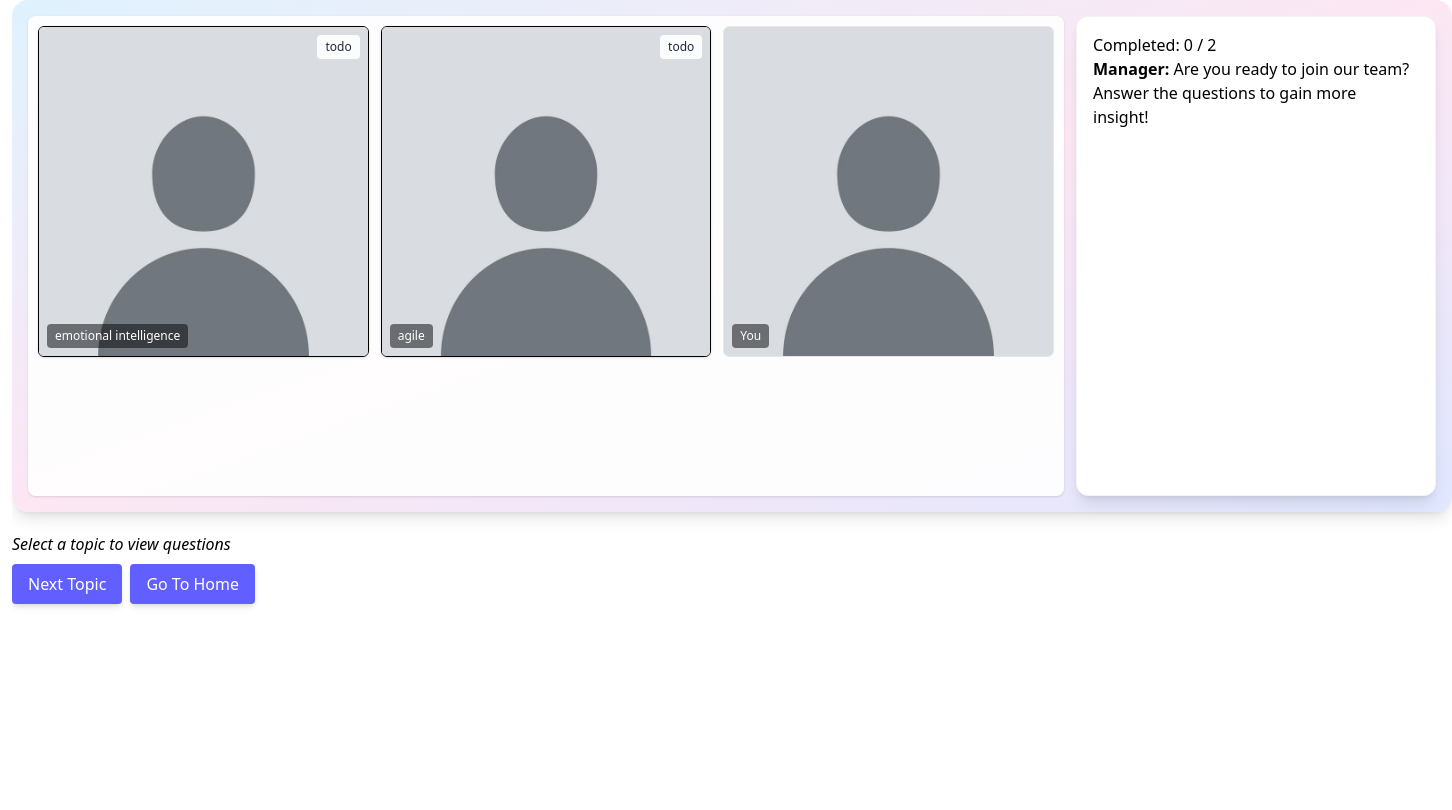
it: QuizTopicSelector › should show done button when all completed
Click the button with test id "topic-card-emotional_intelligence" at (203, 191), box [38, 26, 369, 357]
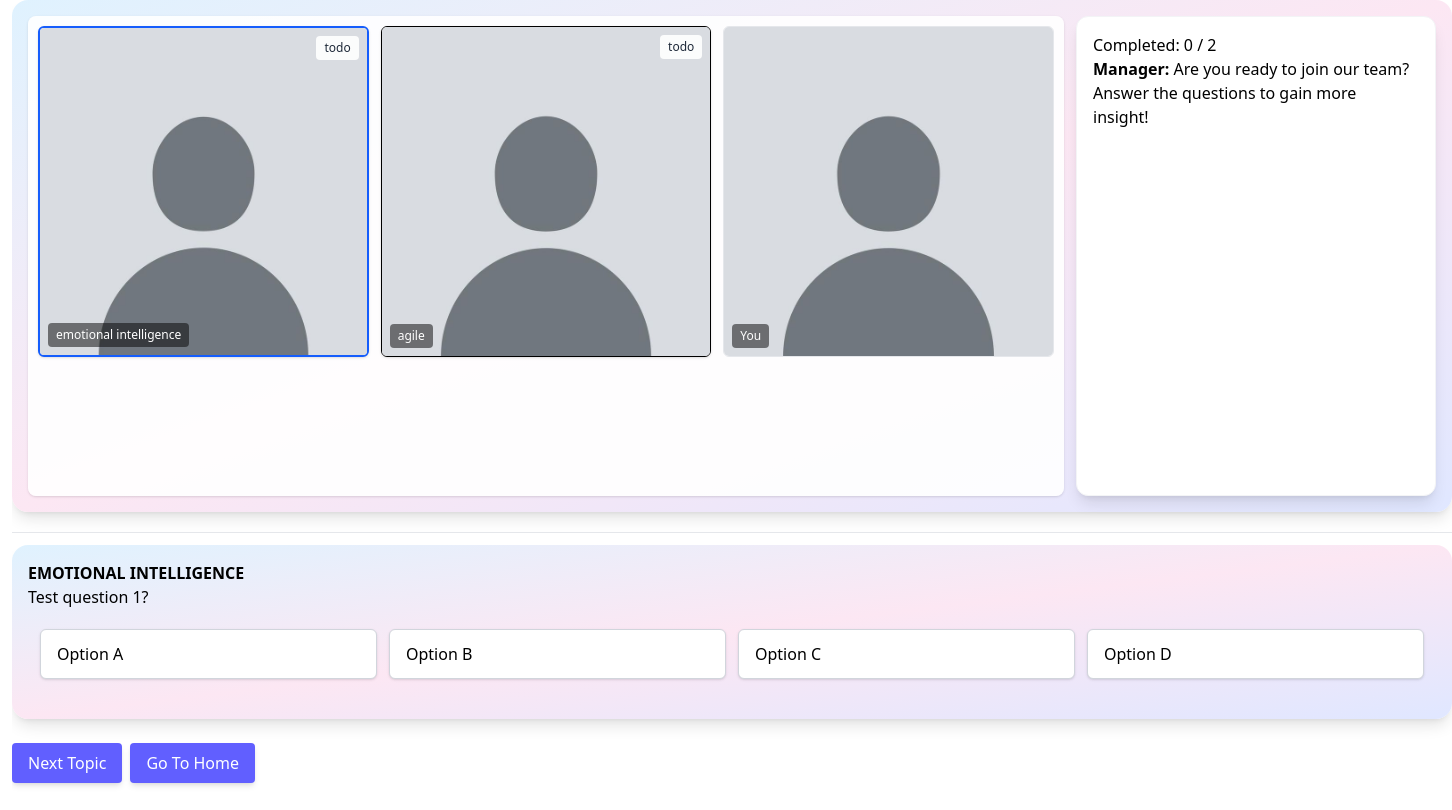
Expected: the button with test id "answer-card-0" is shown
Click the button with test id "answer-card-0" at (90, 654), box [40, 629, 377, 679]
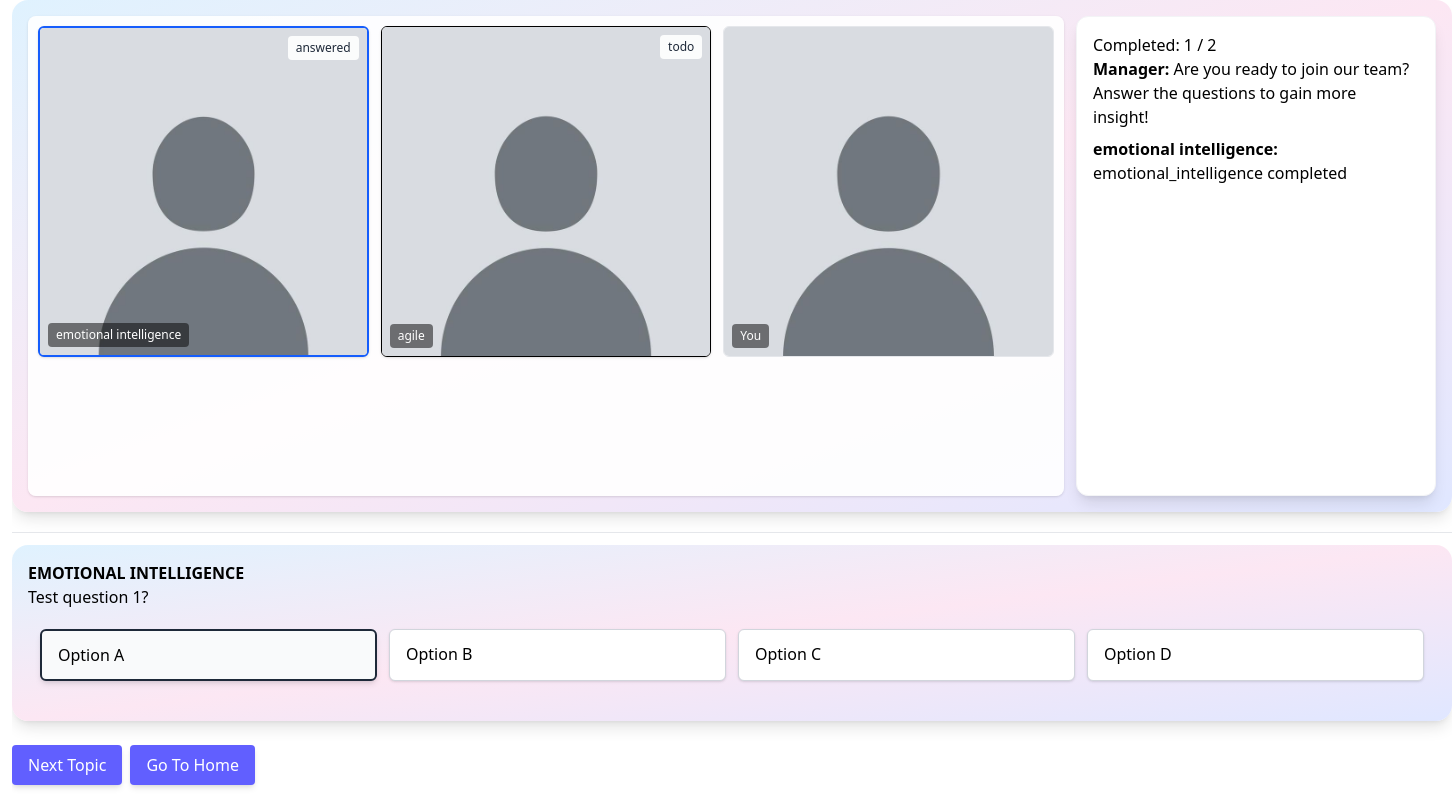
Expected: the heading "Completed: 1 / 2" is shown, [1093, 34, 1216, 56]
Click the button with test id "topic-card-emotional_intelligence" at (203, 191), box [38, 26, 369, 357]
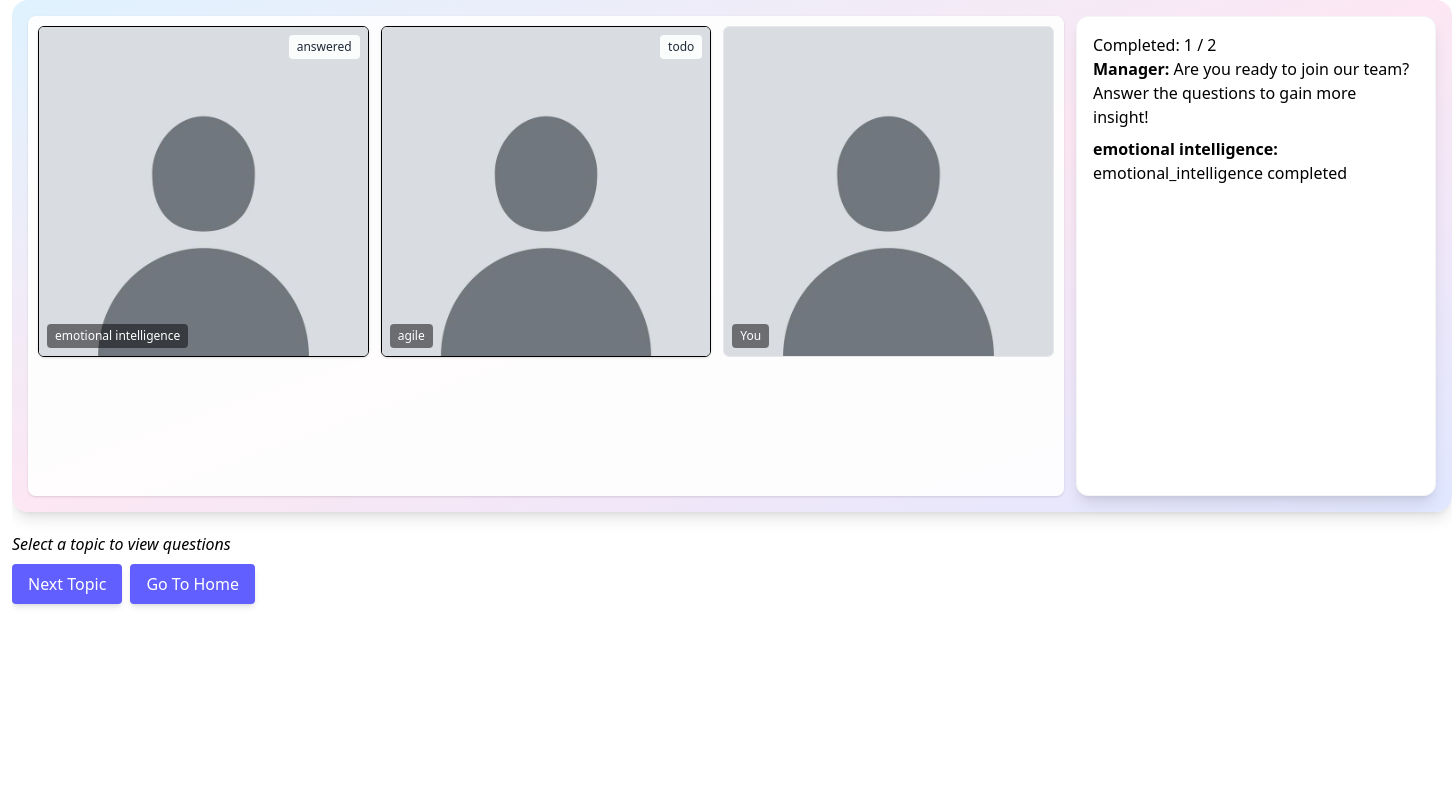
Click the button with test id "topic-card-agile" at (546, 191), box [381, 26, 711, 357]
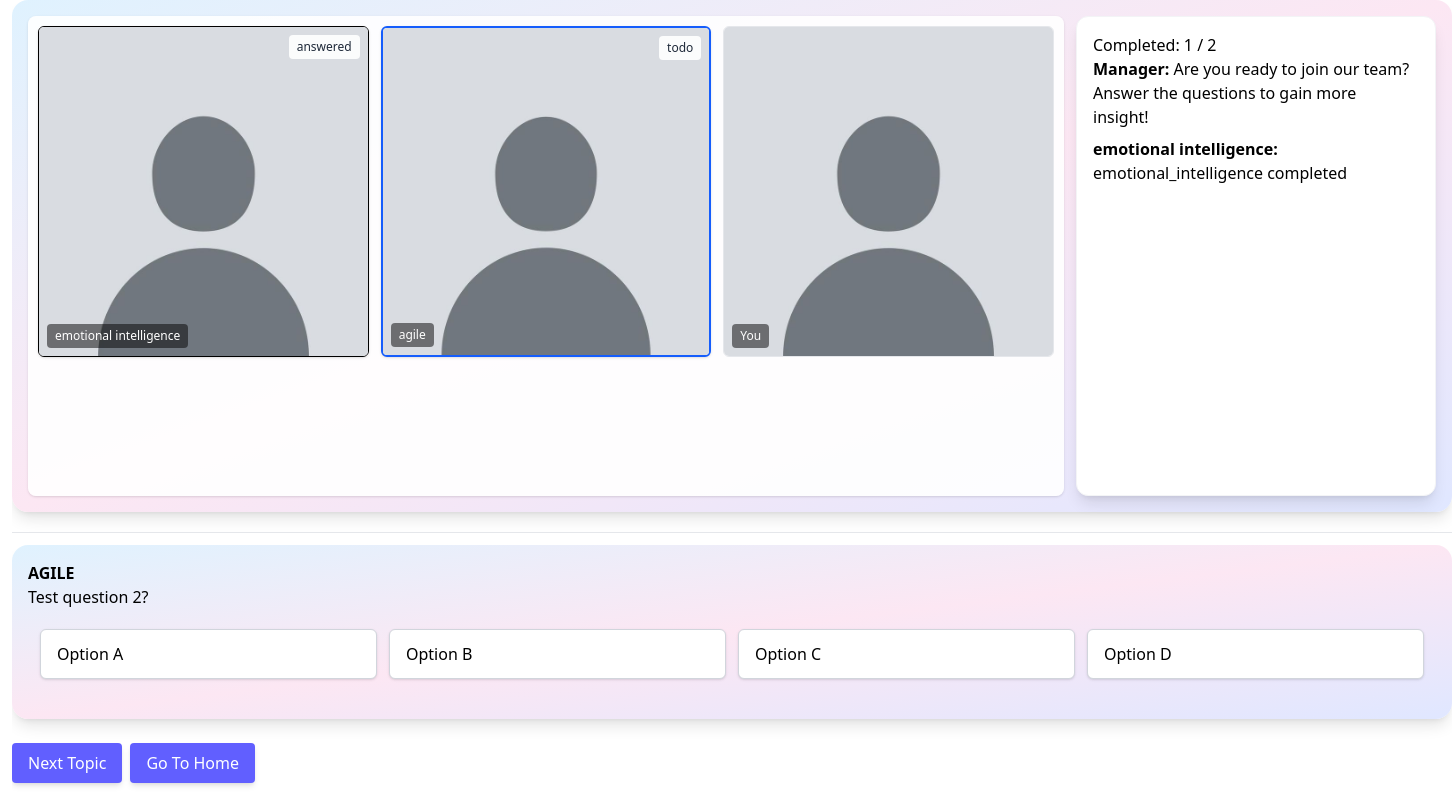
Expected: the button with test id "answer-card-1" is shown
Click the button with test id "answer-card-1" at (439, 654), box [389, 629, 726, 679]
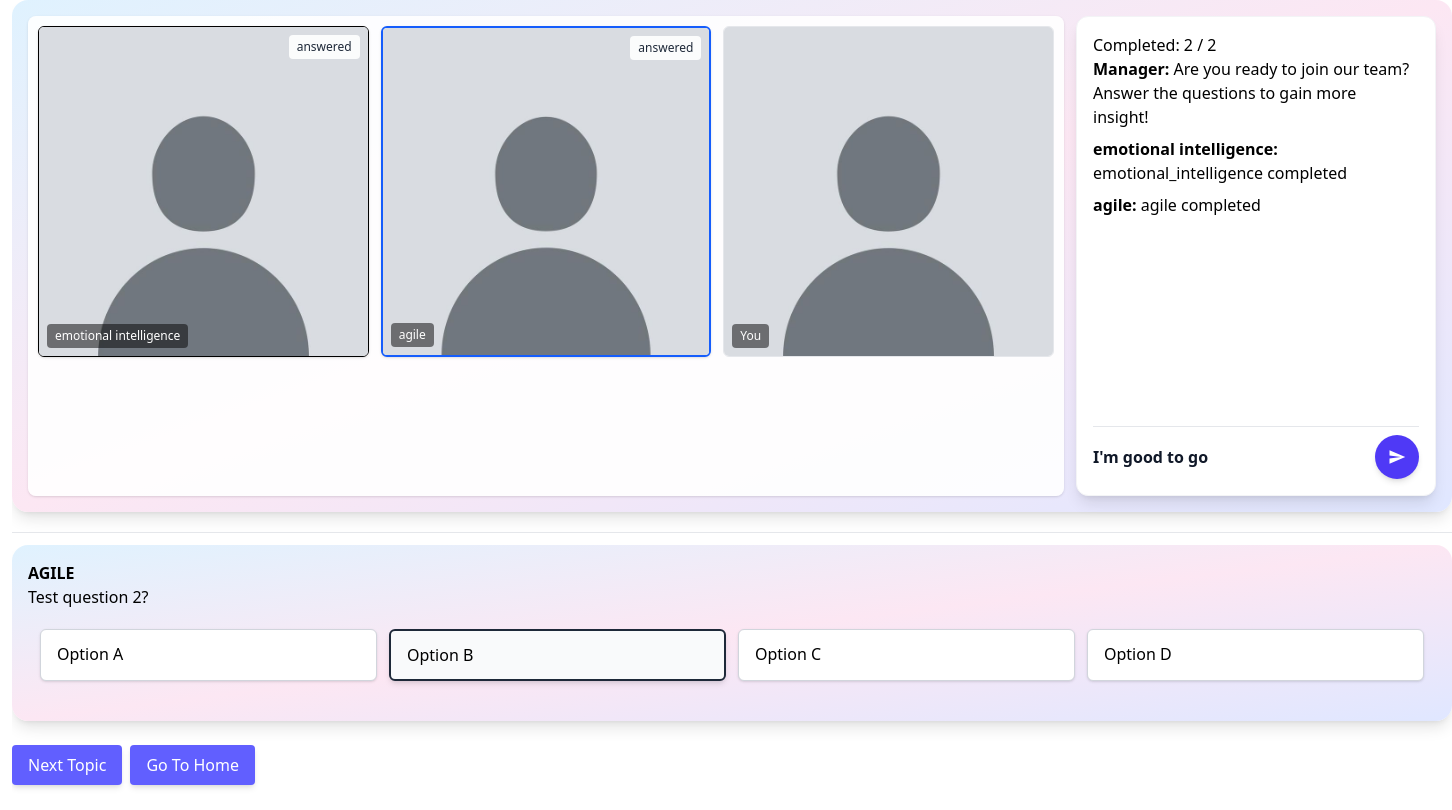
Expected: the text "I'm good to go" is shown, [1093, 445, 1208, 469]
